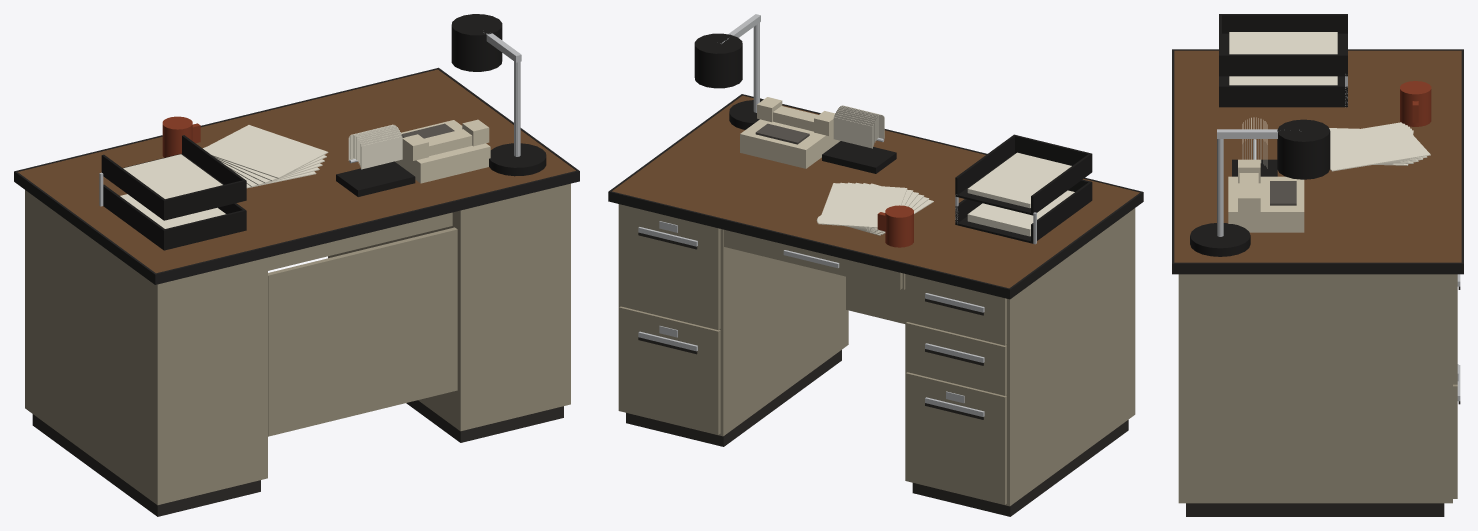
Rendered from SM_Desk80s_Clerical.glb.
3 views of the same model, side by side, from view 1: azimuth 30°, elevation 25°; view 2: azimuth 150°, elevation 25°; view 3: azimuth 270°, elevation 25° (orthographic). The views are drawn at different scales.
Visible parts, largest first — view 1: SM_Desk80s_Clerical; view 2: SM_Desk80s_Clerical; view 3: SM_Desk80s_Clerical.
Part boxes in pixels (x1,y1,x2,y2): SM_Desk80s_Clerical: [14, 14, 579, 516]; SM_Desk80s_Clerical: [608, 14, 1143, 516]; SM_Desk80s_Clerical: [1172, 14, 1463, 516].
Size of the model in its own units: 1.77 by 1.43 by 1.02.
